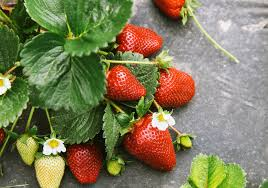ripe: (122, 110, 181, 172), (149, 64, 200, 112), (66, 144, 107, 187), (102, 64, 147, 101), (116, 22, 164, 55)
unripe: (32, 151, 64, 187), (11, 134, 38, 167)
